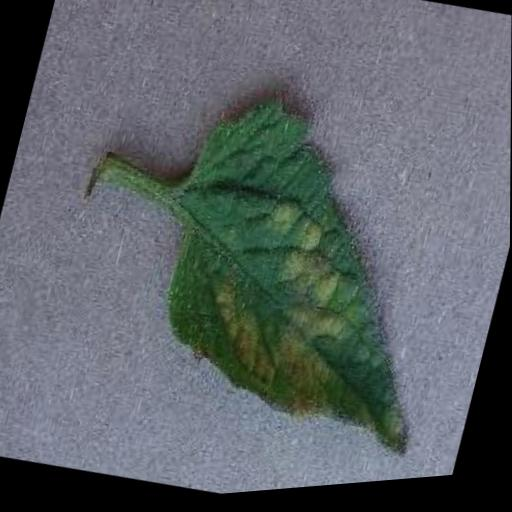Leaf Mold: (134, 72, 492, 481)
